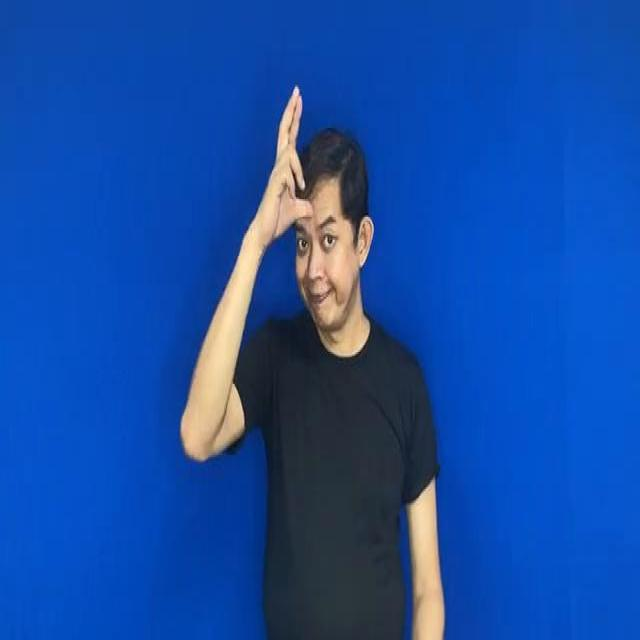chicken: (257, 79, 315, 242)
